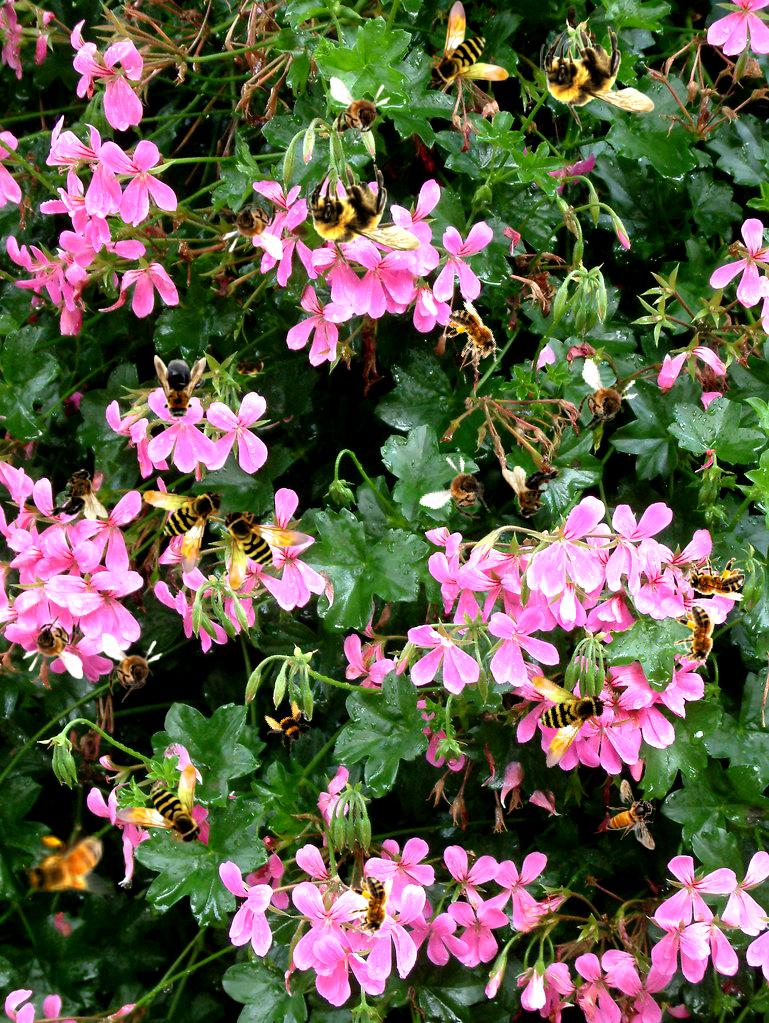Bee: (501, 667, 613, 781), (306, 163, 421, 270), (540, 25, 655, 132), (136, 482, 226, 578), (418, 447, 507, 531), (115, 764, 203, 846), (222, 508, 310, 590), (427, 0, 509, 88), (566, 357, 645, 443), (23, 832, 116, 900), (434, 297, 514, 376), (22, 609, 83, 679), (330, 77, 391, 147), (222, 190, 283, 260), (102, 633, 163, 703), (257, 696, 319, 758), (606, 779, 656, 850), (154, 355, 206, 423), (46, 468, 108, 521), (502, 466, 564, 519), (672, 605, 720, 672), (348, 876, 393, 942), (679, 556, 745, 601), (229, 356, 269, 378)
